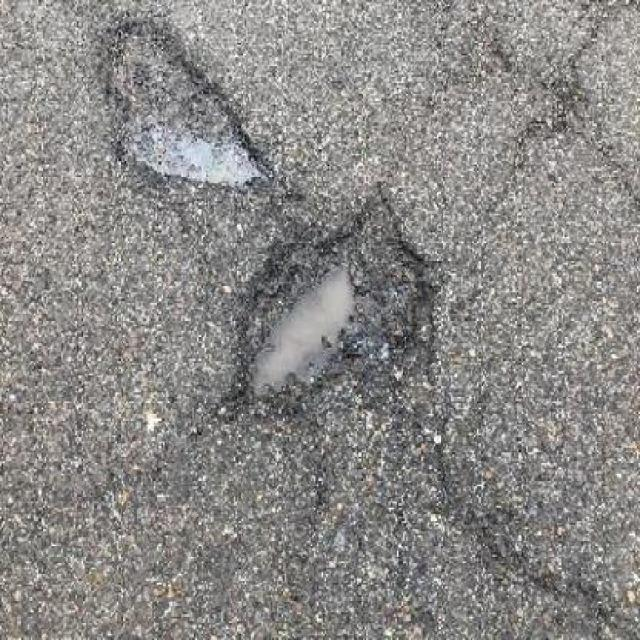Pothole: (218, 180, 440, 423), (90, 12, 272, 192)
